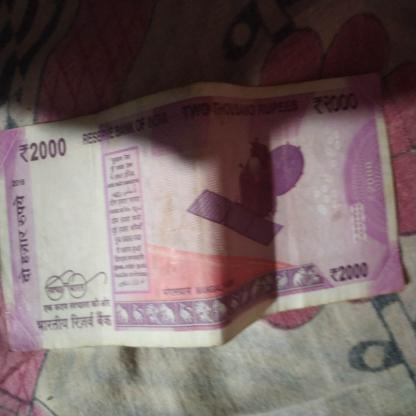New2000Back: (0, 91, 397, 314)
